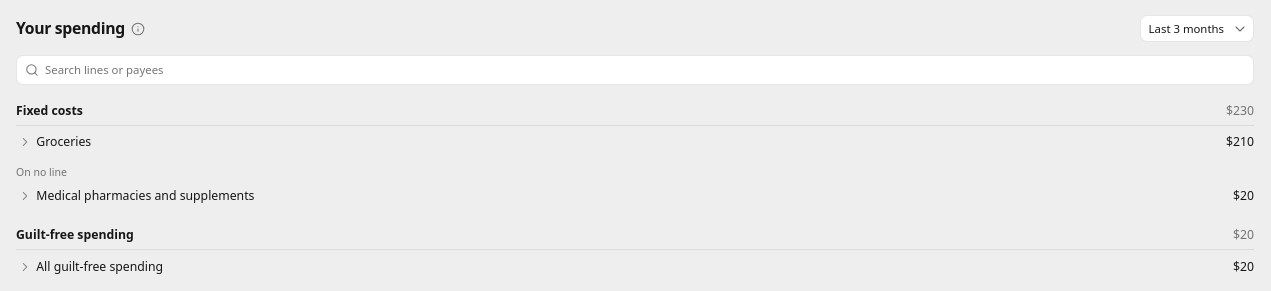
Test: spending explorer › finds payees by name
In the search field with placeholder "Search lines or payees": (645, 70) [45,61,1245,78], type "trader"
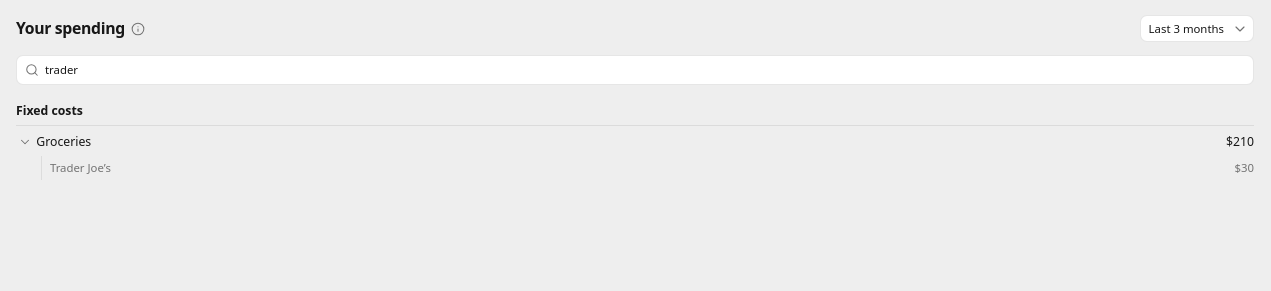
Replace the text in the search field named "Search lines or payees" with "zzz": (645, 70) [45,61,1245,78]
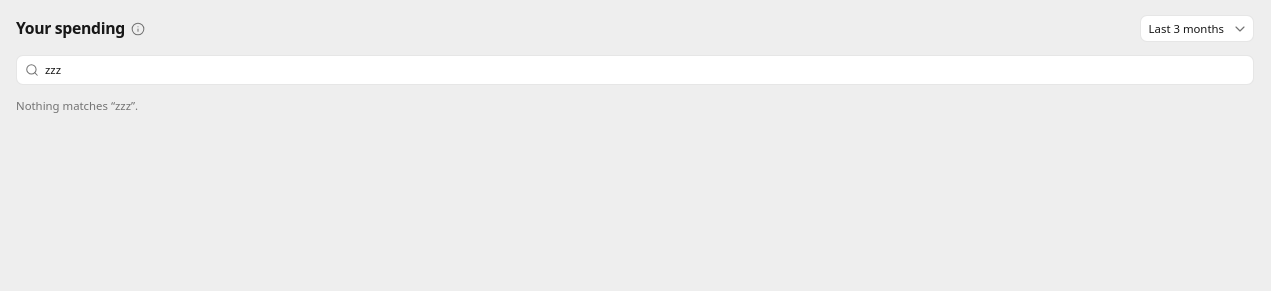
expect the text "Nothing matches “zzz”." is shown: met, box [16,98,138,113]
